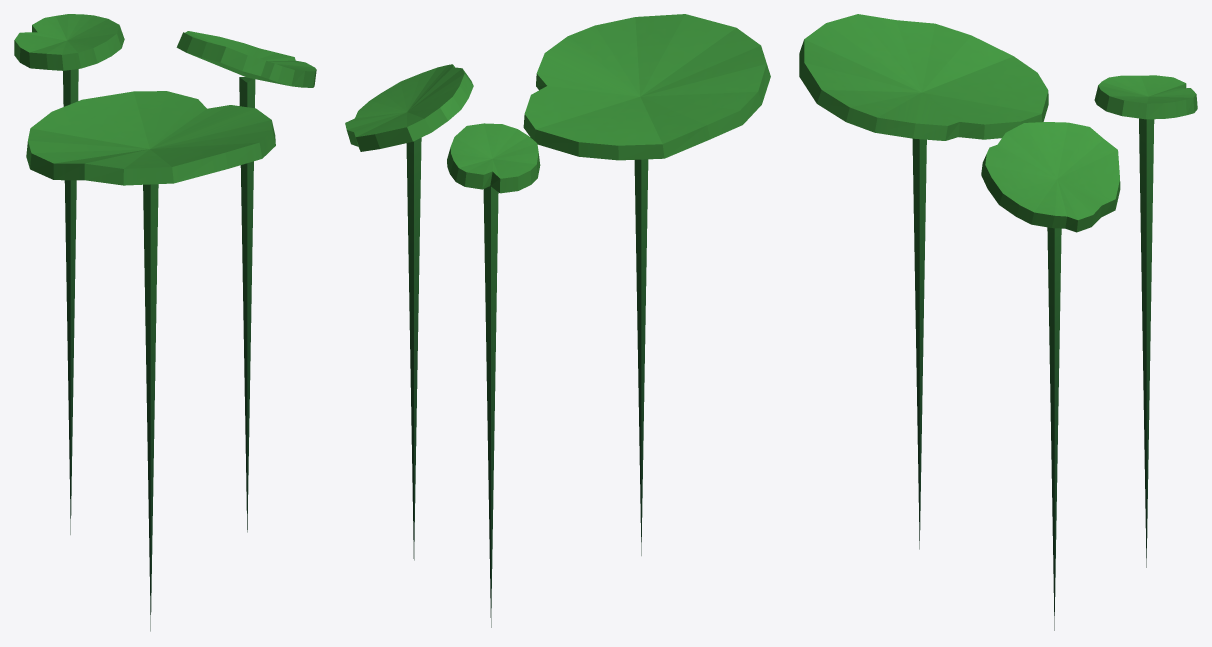
The model's file is ZLP_Grass_E_2.FBX.
3 renders of one model, left to right at view 1: azimuth 30°, elevation 25°; view 2: azimuth 150°, elevation 25°; view 3: azimuth 270°, elevation 25°, orthographic. The views are drawn at different scales.
Visible parts, largest first — view 1: ZLP_Grass_E_2; view 2: ZLP_Grass_E_2; view 3: ZLP_Grass_E_2.
Boxes of the visible parts, left/top/right/bottom form: ZLP_Grass_E_2: left=14, top=14, right=316, bottom=631; ZLP_Grass_E_2: left=345, top=14, right=770, bottom=627; ZLP_Grass_E_2: left=799, top=14, right=1197, bottom=630.
Size of the model in its own units: 84.32 by 123 by 89.4.
